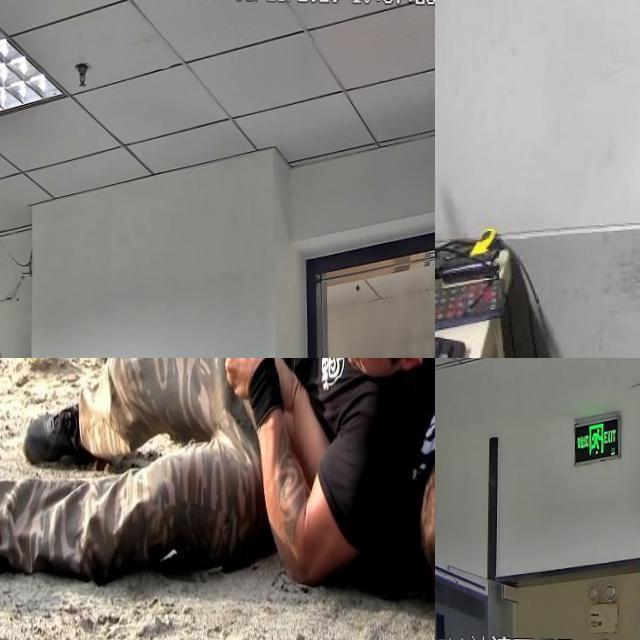-: (102, 358, 187, 437)
gun-knife-thesis - v11 Yolov5 augmented: (0, 148, 34, 358)
